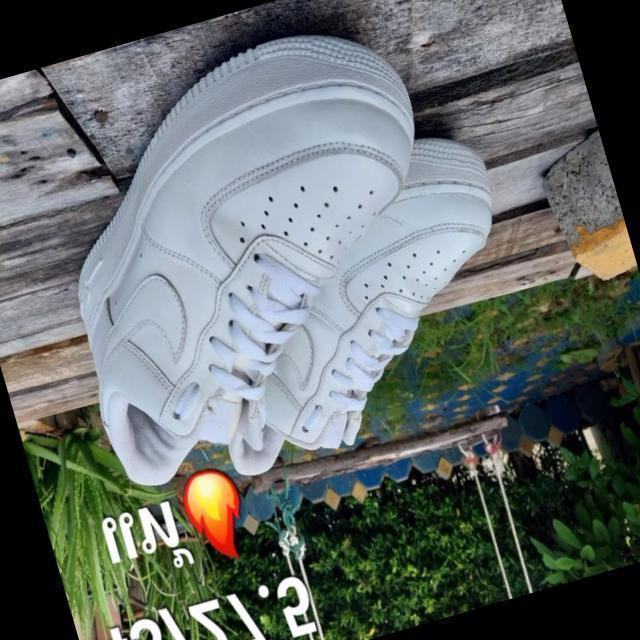nike original air force: (14, 6, 498, 490), (162, 120, 559, 484)
